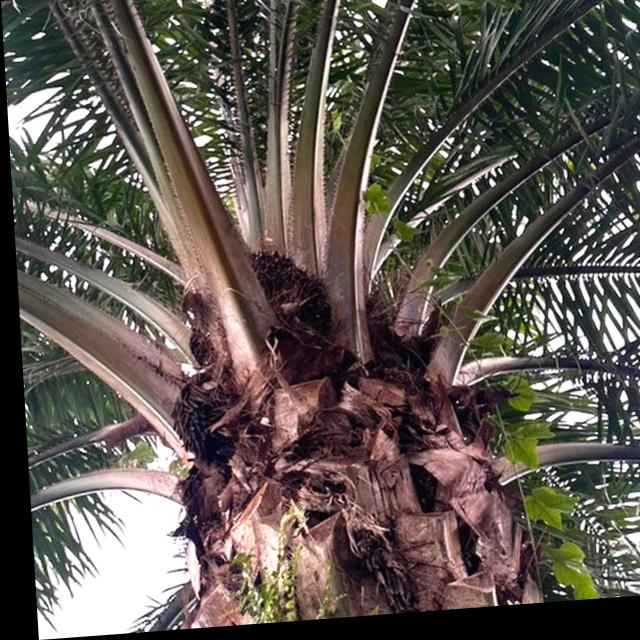ripe: (237, 239, 347, 369)
